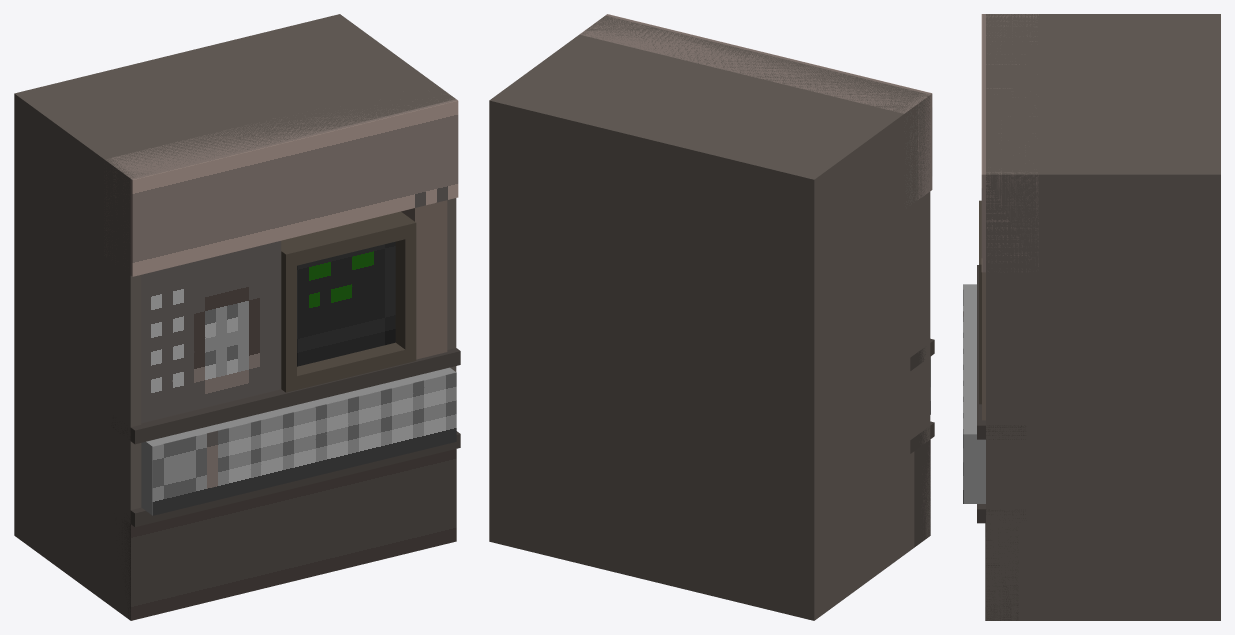
Rendered from CMU3DSensorComputerCloud.glb.
The picture shows the model from 3 angles, left to right: view 1: azimuth 30°, elevation 25°; view 2: azimuth 150°, elevation 25°; view 3: azimuth 270°, elevation 25°; orthographic projection.
Parts seen in each view (by area): view 1: full depth left chassis, upper blank metal panel original face, cabinet roof, bottom service enclosure original face, wide keyboard deck original face, left push-button and numeric module original face, sensor CRT recessed inset original face, keyboard upper frame, upper blank metal panel, right console cheek, sensor CRT upper frame, wide keyboard deck (+6 smaller); view 2: rear cabinet wall, full depth left chassis, cabinet roof, upper blank metal panel, full depth right chassis, bottom service enclosure; view 3: full depth right chassis, cabinet roof, wide keyboard deck, rear cabinet wall, upper blank metal panel, full depth left chassis, keyboard upper frame, right console cheek, upper blank metal panel original face, bottom service enclosure.
Part boxes in pixels (box(x1,y1,x2,y2)): full depth left chassis: box(14, 91, 141, 620); upper blank metal panel original face: box(132, 100, 458, 276); cabinet roof: box(32, 22, 444, 174); bottom service enclosure original face: box(130, 449, 456, 620); wide keyboard deck original face: box(152, 372, 456, 515); left push-button and numeric module original face: box(141, 241, 281, 423); sensor CRT recessed inset original face: box(297, 241, 395, 366); keyboard upper frame: box(111, 348, 460, 444); upper blank metal panel: box(104, 90, 457, 275); right console cheek: box(401, 200, 447, 359); sensor CRT upper frame: box(281, 211, 416, 268); wide keyboard deck: box(141, 367, 456, 515); rear cabinet wall: box(500, 98, 809, 617); full depth left chassis: box(803, 92, 930, 620); cabinet roof: box(507, 18, 918, 171); upper blank metal panel: box(579, 14, 931, 204); full depth right chassis: box(489, 15, 615, 544); bottom service enclosure: box(914, 440, 930, 547); full depth right chassis: box(986, 169, 1220, 620); cabinet roof: box(986, 19, 1206, 168); wide keyboard deck: box(963, 284, 985, 503); rear cabinet wall: box(1206, 19, 1220, 168); upper blank metal panel: box(982, 14, 1038, 272); full depth left chassis: box(986, 14, 1220, 19); keyboard upper frame: box(977, 265, 1025, 439); right console cheek: box(982, 272, 985, 420); upper blank metal panel original face: box(981, 14, 982, 271); bottom service enclosure: box(986, 529, 1018, 620).
Bounding box in the file's own units: 0.9375 × 1.22 × 0.6366.
Materials: 14 (5 with a texture image).
